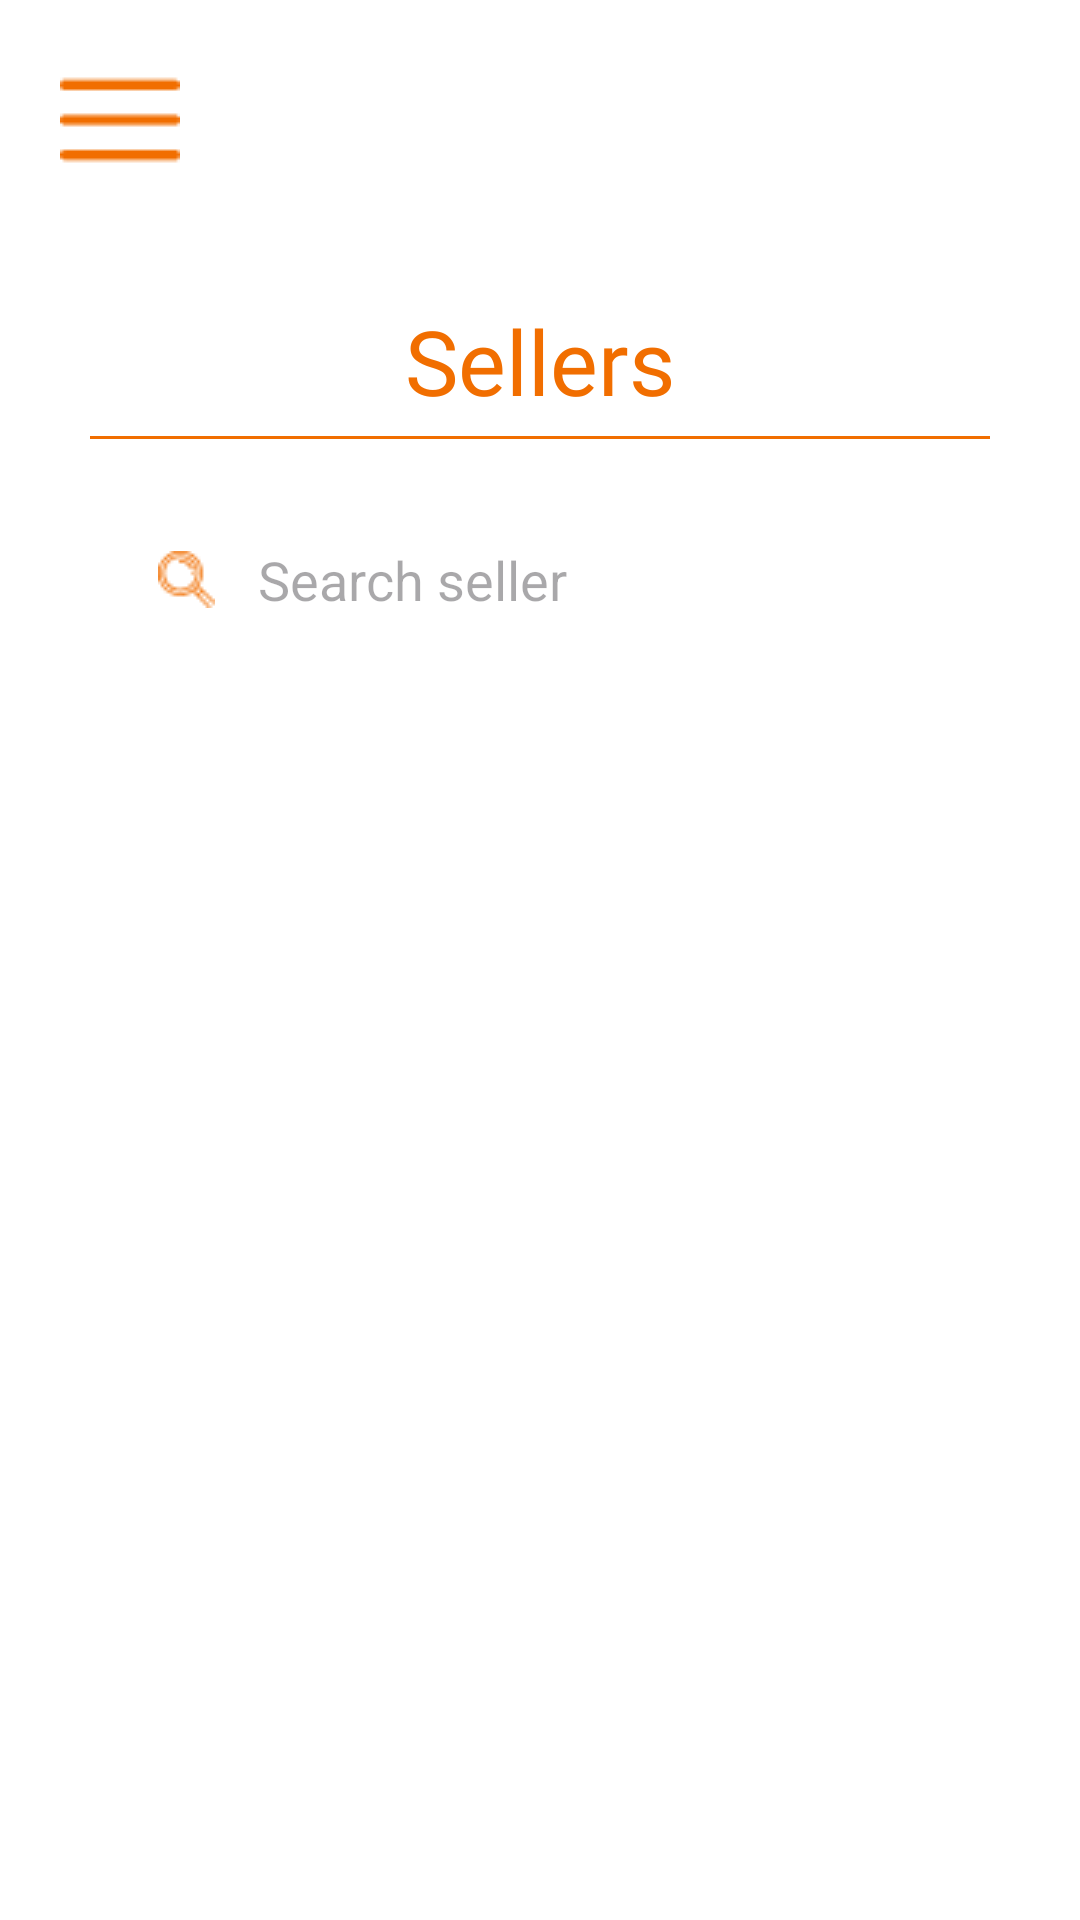

Where to tap for icons on this 1080w x 1920h app screen, as (x=x, y=y):
menu: (x=120, y=120)
